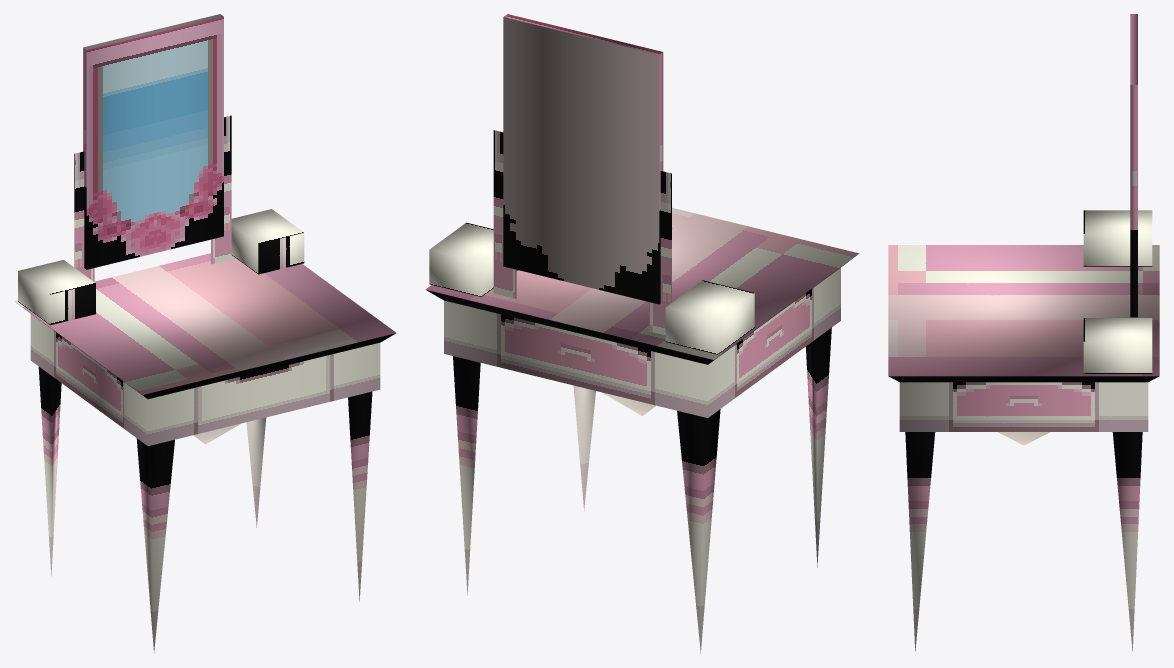
3 renders of one model, left to right at view 1: azimuth 30°, elevation 25°; view 2: azimuth 150°, elevation 25°; view 3: azimuth 270°, elevation 25°, orthographic. The views are drawn at different scales.
Parts seen in each view (by area): view 1: 3081IMRL05_09; view 2: 3081IMRL05_09; view 3: 3081IMRL05_09.
Boxes of the visible parts, x1=… form: 3081IMRL05_09: x1=14, y1=14, x2=396, y2=652; 3081IMRL05_09: x1=425, y1=14, x2=859, y2=653; 3081IMRL05_09: x1=888, y1=14, x2=1159, y2=651.
Bounding box in the file's own units: 0.9502 × 1.86 × 0.8301.
Materials: 3 (3 with a texture image).
